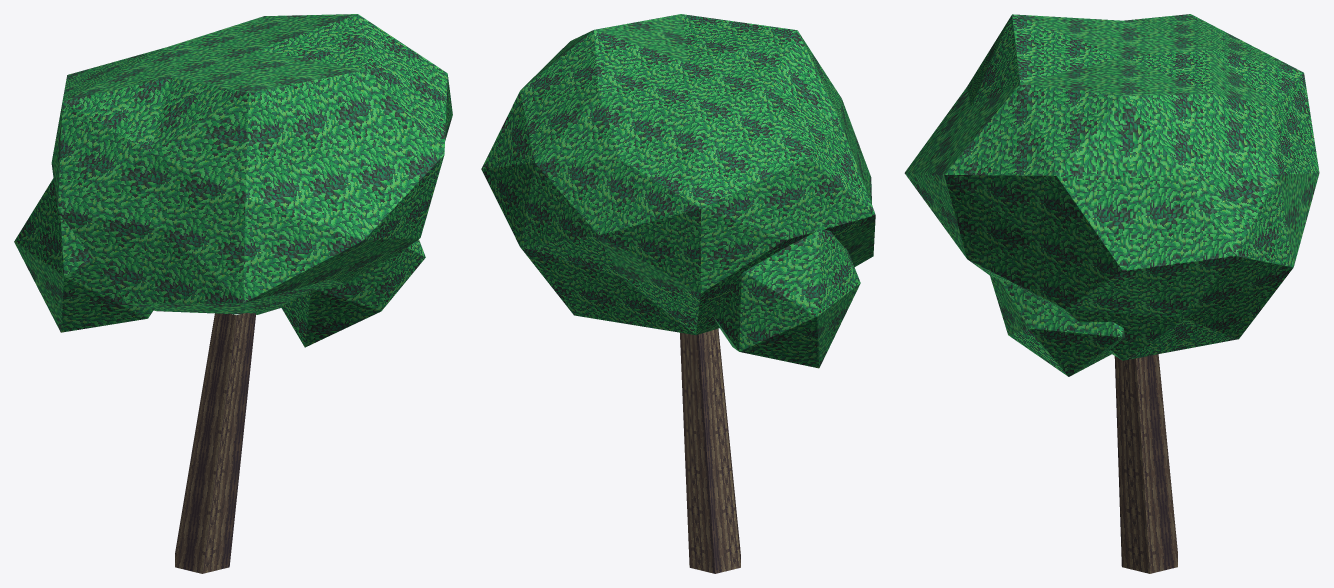
Rendered from oak_b.glb.
3 renders of one model, left to right at view 1: azimuth 30°, elevation 25°; view 2: azimuth 150°, elevation 25°; view 3: azimuth 270°, elevation 25°, orthographic. The views are drawn at different scales.
Visible parts, largest first — view 1: oak_b; view 2: oak_b; view 3: oak_b.
Boxes of the visible parts, x1,y1,x2,y2 form: oak_b: (14,14,452,573); oak_b: (481,14,875,573); oak_b: (904,14,1319,573).
Size of the model in its own units: 5.2 by 6.56 by 4.61.
Materials: 2 (2 with a texture image).
